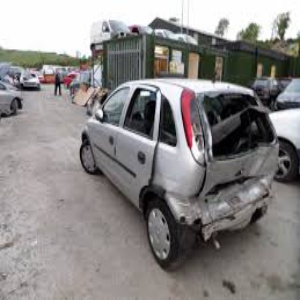bumper: (198, 179, 264, 239)
